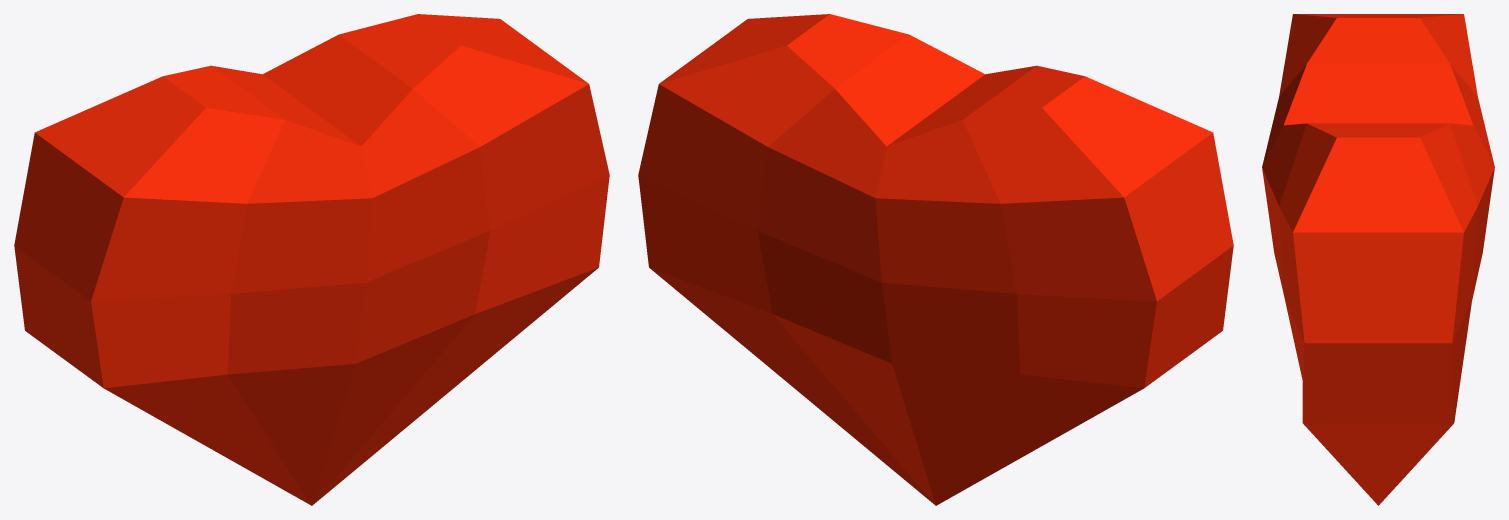
File: heart.fbx
The picture shows the model from 3 angles, left to right: view 1: azimuth 30°, elevation 25°; view 2: azimuth 150°, elevation 25°; view 3: azimuth 270°, elevation 25°; orthographic projection. The views are drawn at different scales.
Visible parts, largest first — view 1: Куб.007; view 2: Куб.007; view 3: Куб.007.
Boxes of the visible parts, <box> form: Куб.007: <box>14,14,609,505</box>; Куб.007: <box>638,14,1233,505</box>; Куб.007: <box>1262,14,1494,505</box>.
Bounding box in the file's own units: 549 × 450 × 222.
